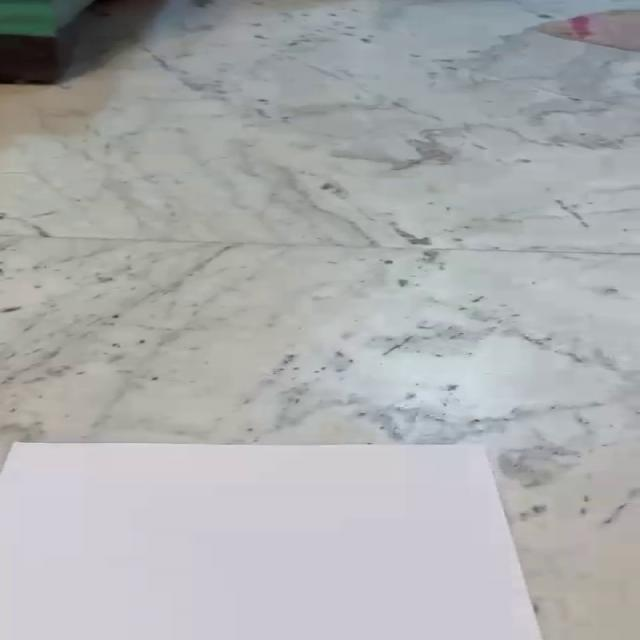road: (0, 442, 544, 640)
